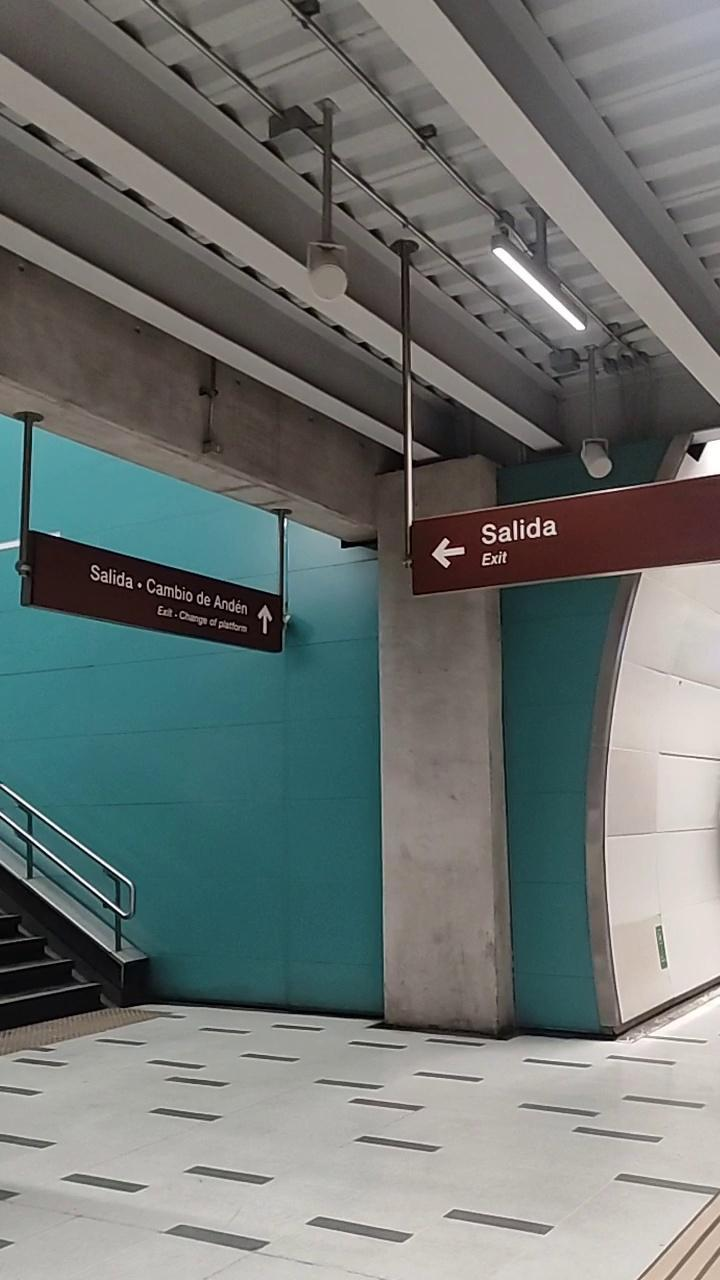left arrow: (430, 536, 466, 568)
up arrow: (254, 604, 277, 634)
